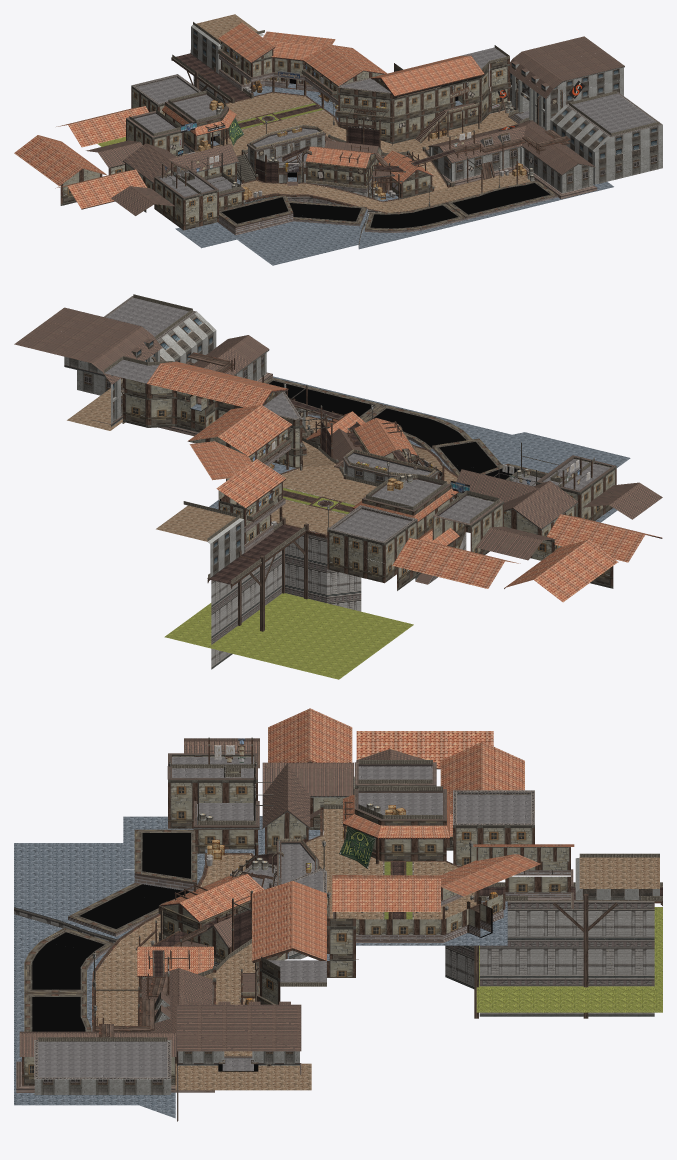
The model's file is Downtown.glb.
3 renders of one model, top to bottom at view 1: azimuth 30°, elevation 25°; view 2: azimuth 150°, elevation 25°; view 3: azimuth 270°, elevation 25°, orthographic. The views are drawn at different scales.
Parts seen in each view (by area): view 1: Object.1076, Object.937, Object.903, Object.1049, Object.980, Object.1052, Object.978, Object.1048, Object.1045, Object.1093, Object.1094, Object.1067 (+80 smaller); view 2: Object.954, Object.1049, Object.1047, Object.1052, Object.937, Object.980, Object.1048, Object.1093, Object.910, Object.952, Object.1094, Object.978 (+47 smaller); view 3: Object.895, Object.937, Object.980, Object.1067, Object.894, Object.911, Object.1048, Object.1052, Object.985, Object.952, Object.976, Object.1049 (+72 smaller).
Boxes of the visible parts, left/top/right/bottom form: Object.1076: left=559, top=118, right=636, bottom=184; Object.937: left=273, top=222, right=389, bottom=256; Object.903: left=336, top=63, right=436, bottom=123; Object.1049: left=14, top=135, right=105, bottom=185; Object.980: left=195, top=39, right=387, bottom=134; Object.1052: left=109, top=142, right=221, bottom=182; Object.978: left=218, top=22, right=308, bottom=62; Object.1048: left=55, top=167, right=147, bottom=208; Object.1045: left=68, top=105, right=189, bottom=147; Object.1093: left=530, top=51, right=624, bottom=88; Object.1094: left=513, top=36, right=604, bottom=70; Object.1067: left=176, top=171, right=263, bottom=230; Object.954: left=276, top=603, right=413, bottom=679; Object.1049: left=504, top=539, right=617, bottom=602; Object.1047: left=392, top=538, right=504, bottom=588; Object.1052: left=475, top=474, right=577, bottom=538; Object.937: left=483, top=428, right=586, bottom=472; Object.980: left=188, top=405, right=279, bottom=456; Object.1048: left=546, top=514, right=659, bottom=562; Object.1093: left=39, top=307, right=152, bottom=356; Object.910: left=123, top=378, right=384, bottom=578; Object.952: left=189, top=593, right=326, bottom=640; Object.1094: left=14, top=326, right=122, bottom=371; Object.978: left=207, top=452, right=285, bottom=507; Object.895: left=490, top=901, right=624, bottom=1016; Object.937: left=14, top=869, right=123, bottom=937; Object.980: left=333, top=795, right=465, bottom=911; Object.1067: left=134, top=738, right=257, bottom=853; Object.894: left=595, top=901, right=654, bottom=1016; Object.911: left=256, top=814, right=480, bottom=1004; Object.1048: left=268, top=708, right=352, bottom=762; Object.1052: left=262, top=760, right=358, bottom=818; Object.985: left=22, top=847, right=570, bottom=1085; Object.952: left=476, top=960, right=601, bottom=1012; Object.976: left=252, top=903, right=326, bottom=960; Object.1049: left=356, top=731, right=493, bottom=767.
Size of the model in its own units: 116 by 26.62 by 83.1.
17 materials, 17 textured.
